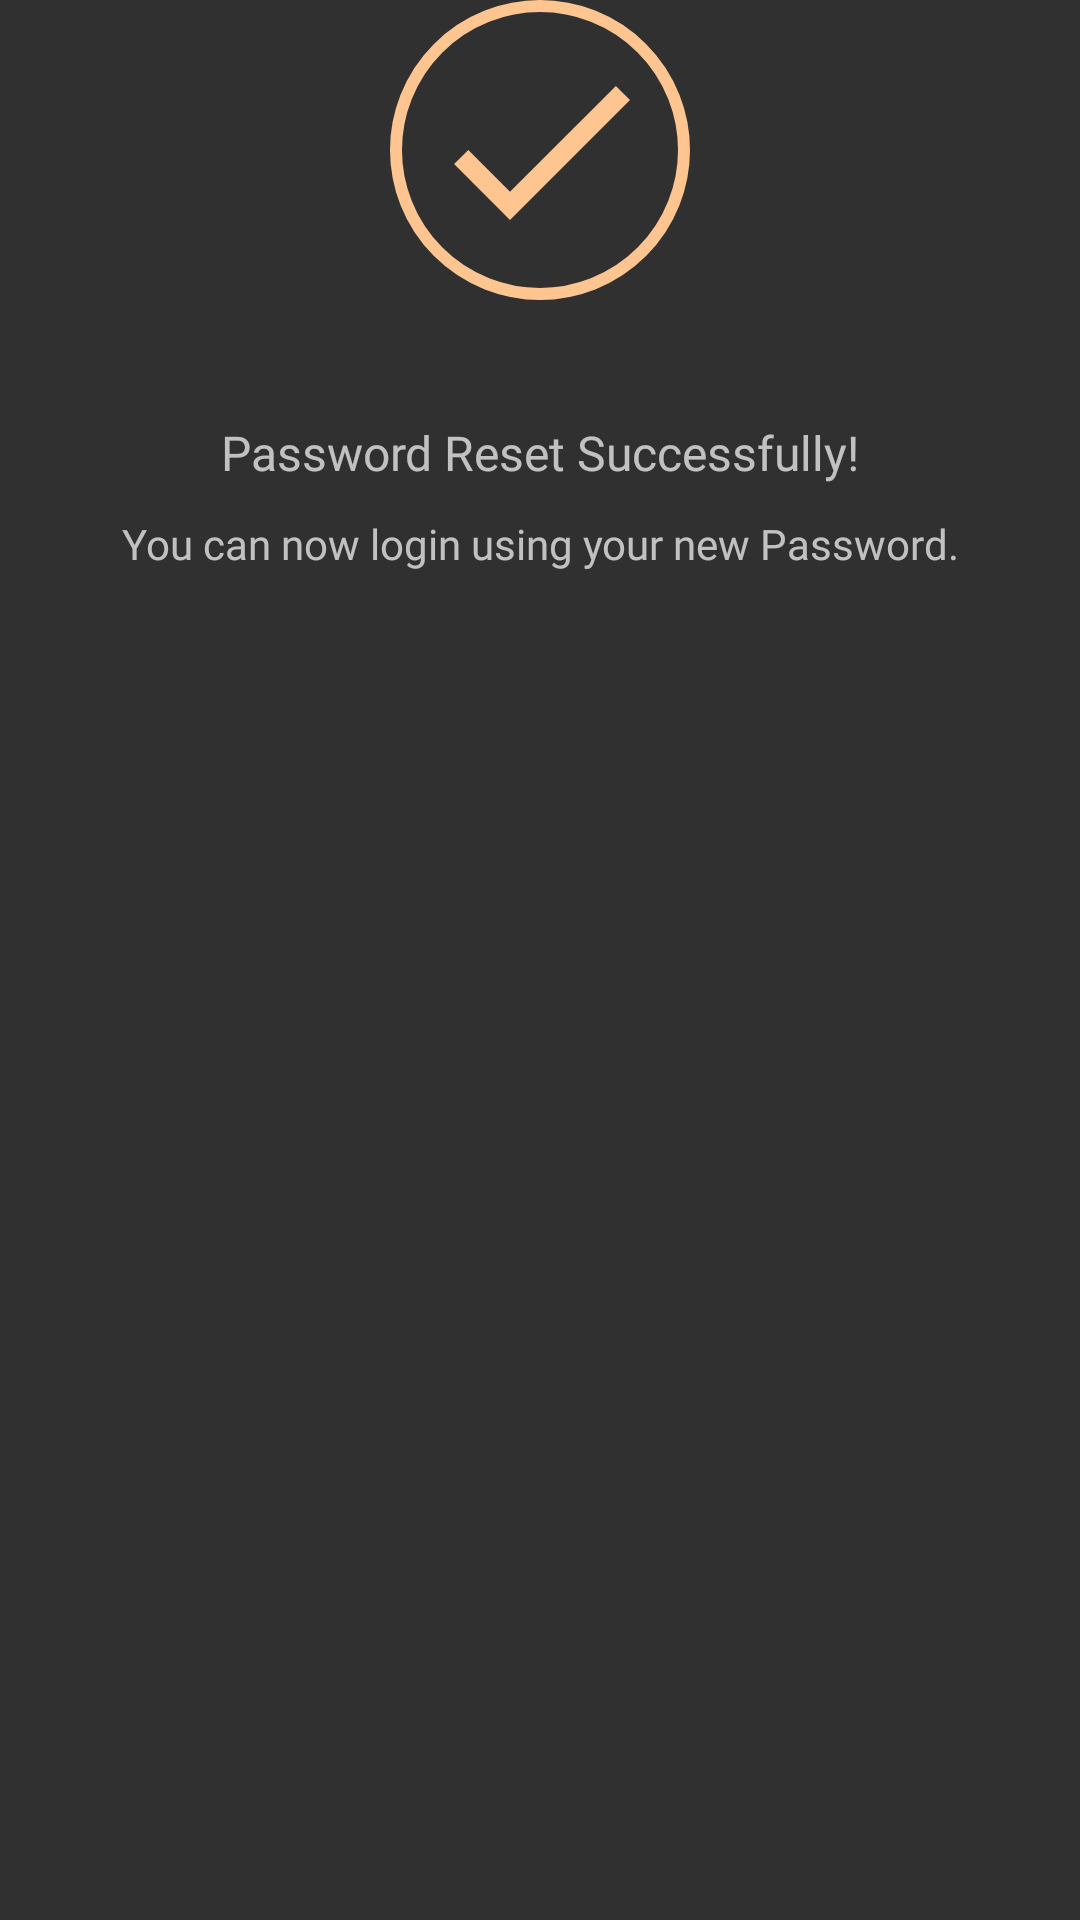

Icon bounding boxes for this 1080w x 1920h phone screenshot, format [left=x1, top=y1, right=x2, bottom=y2]:
pass changed: [left=390, top=0, right=690, bottom=300]
